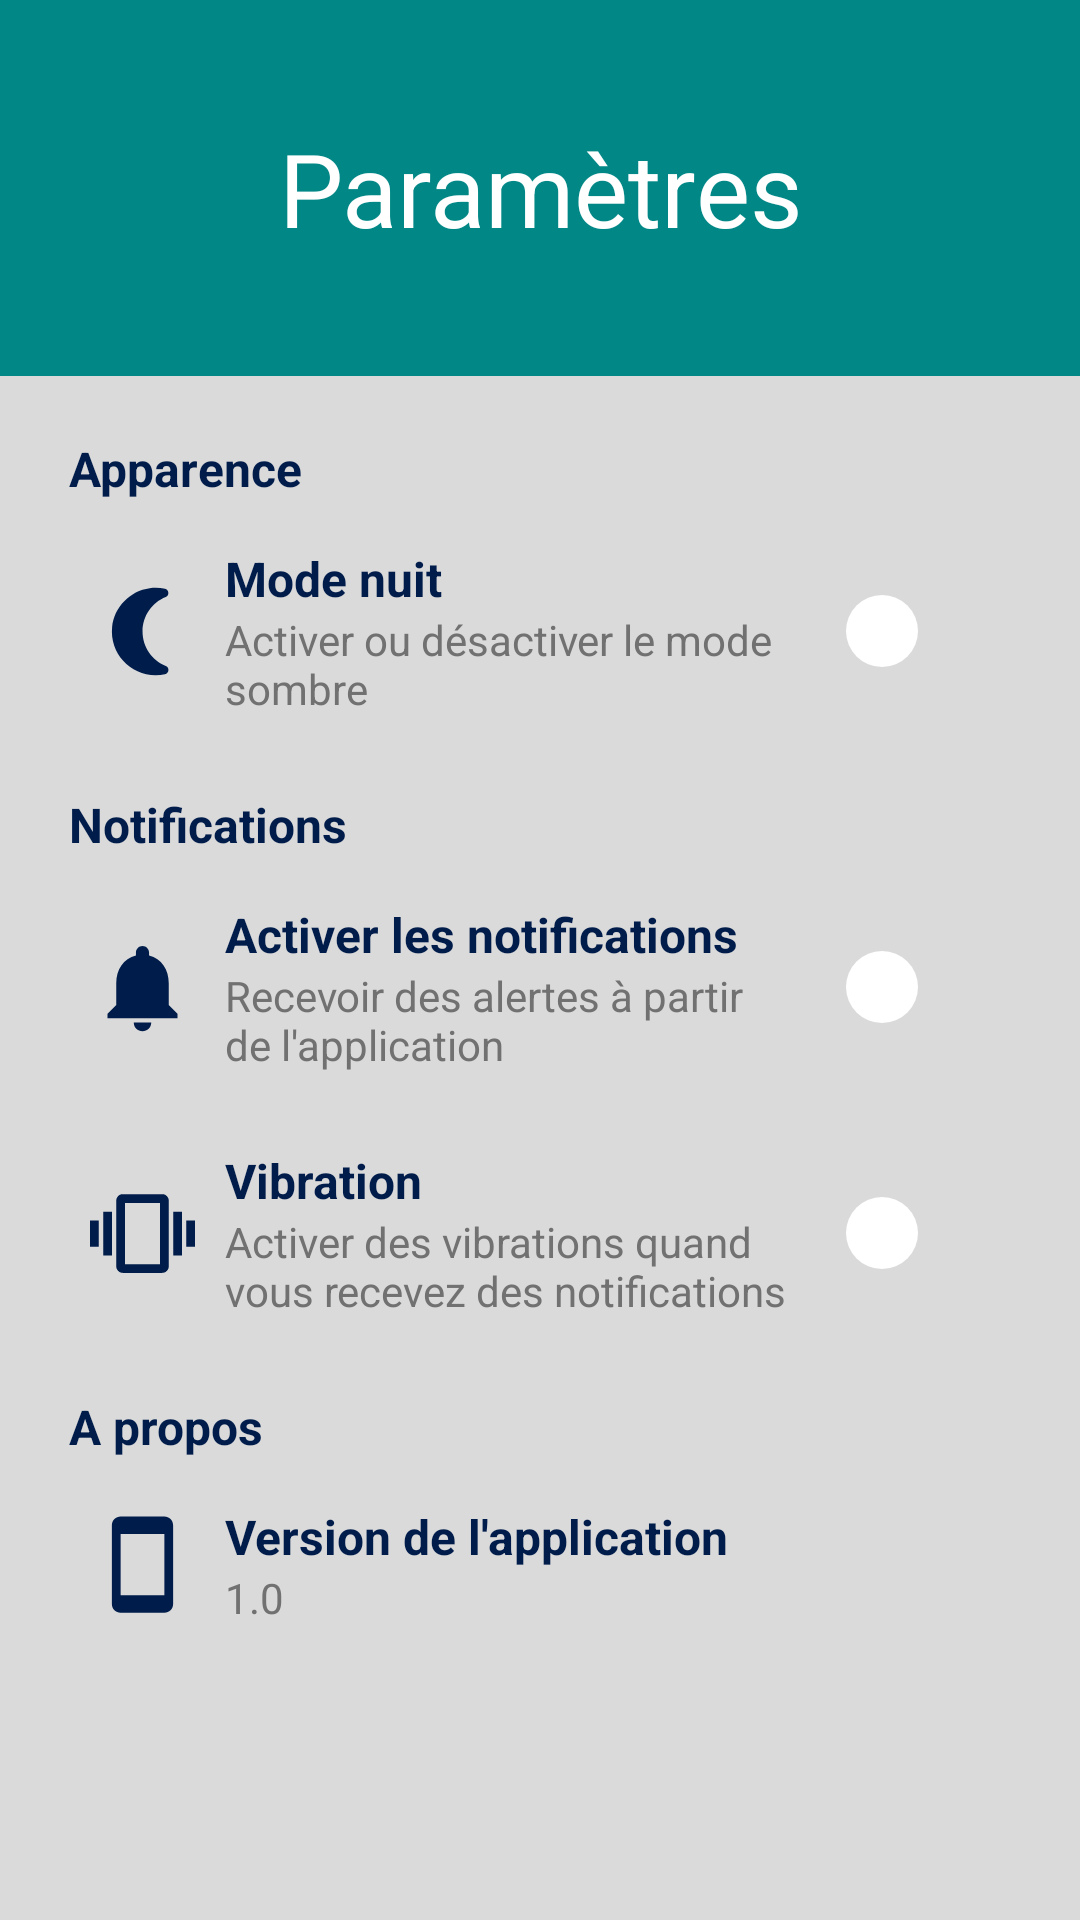

Screen size 1080x1920. Icon name, then its center in pixels as point (x, y):
nightlight round: point (140, 631)
smartphone: point (142, 1564)
